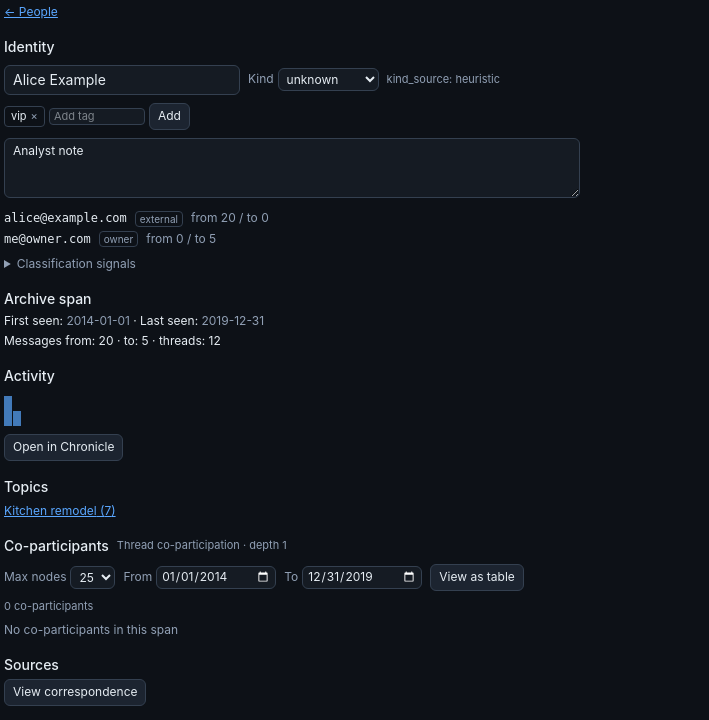
Test case: PersonProfilePage › kind PATCH with kind_source explanation
Check: the text with test id "person-kind-source" reads "kind_source: heuristic", box [387,72,500,88]
Select "human" in the dropdown with test id "person-kind-select": (328, 80) [278,68,379,91]
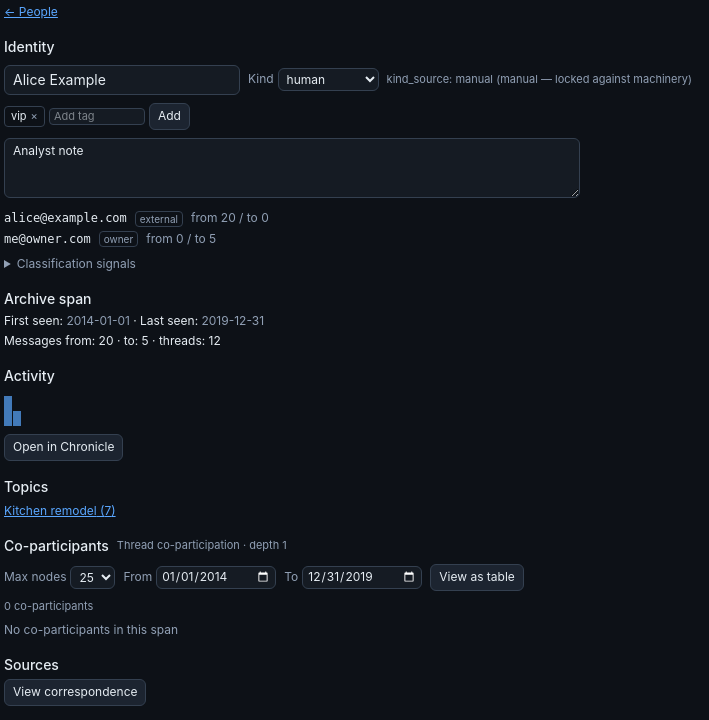
Check: the text with test id "person-kind-source" shows "manual", box [455,72,493,86]
Check: the text with test id "person-kind-source" shows "locked against machinery", box [493,72,692,86]
